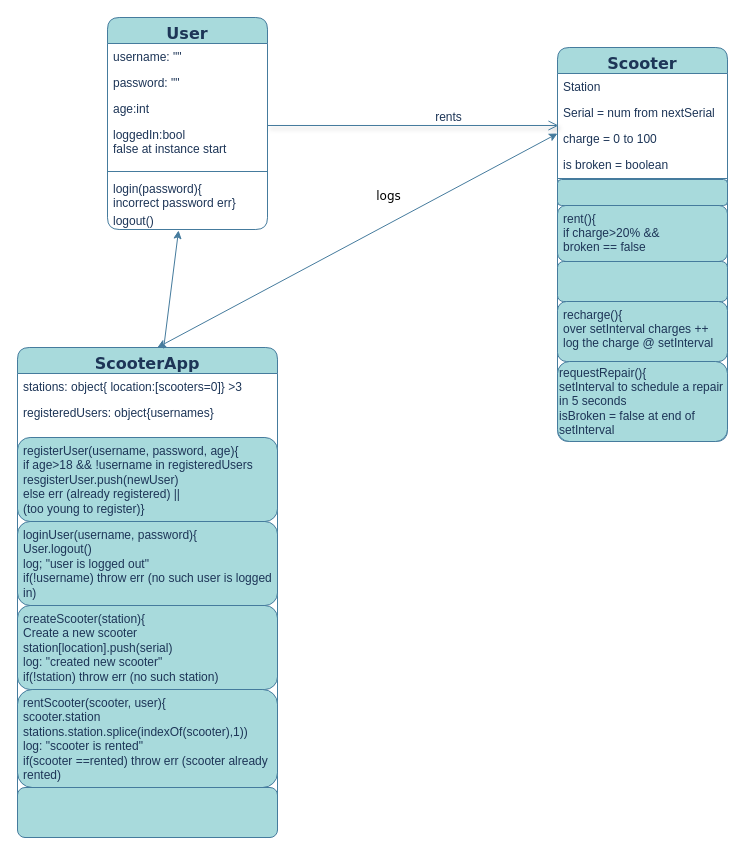
This 745x858 diagram has some shape labels left out. The centre of each missing label's shape, as x and y in pixels:
dock(station){ remove user.info}: [642,281]
nextSerial(): [642,192]
print() log list of registered Users log list of stations and #of scooters: [147,812]
